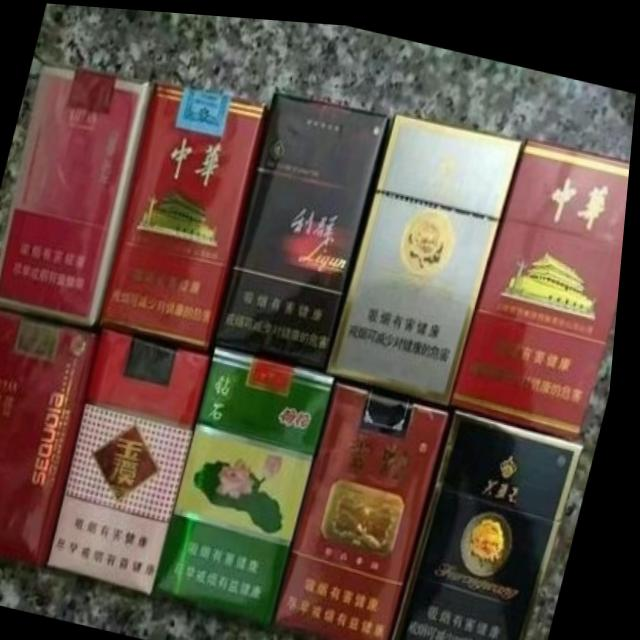box: (333, 107, 525, 400), (459, 128, 632, 431), (165, 344, 343, 621), (221, 89, 390, 368), (401, 402, 591, 640), (285, 377, 454, 640), (106, 77, 269, 346), (57, 321, 218, 592), (0, 63, 153, 324), (0, 309, 106, 565)
